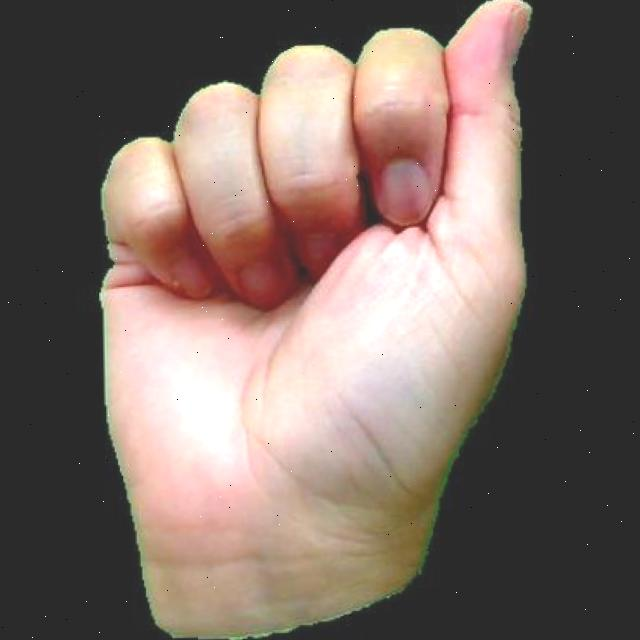a: (68, 0, 543, 640)
